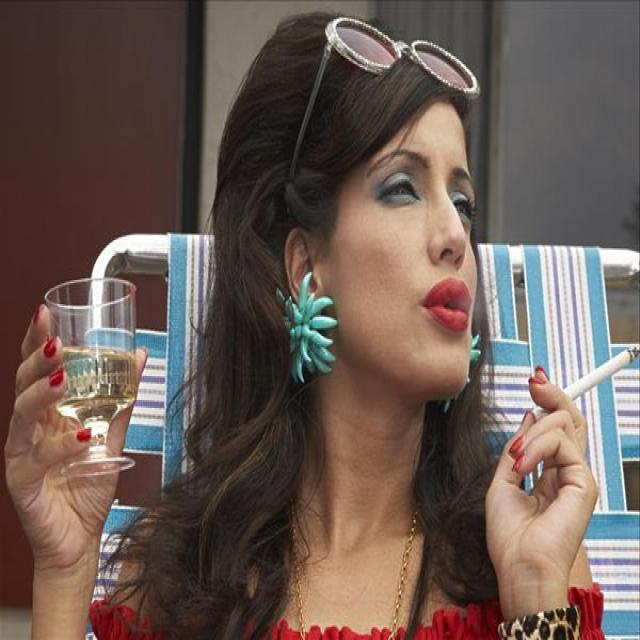smoking: (539, 340, 639, 416)
